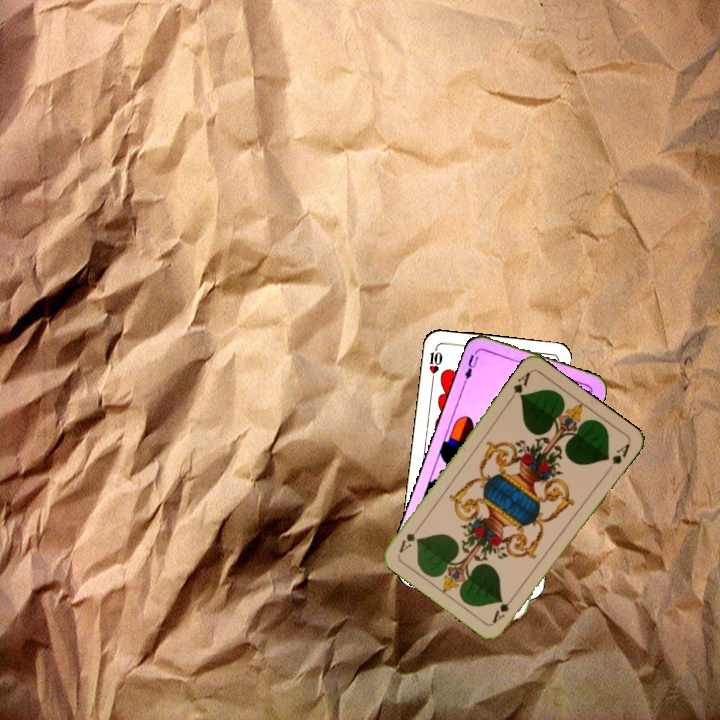EU: (461, 347, 481, 382)
GA: (488, 591, 518, 626), (505, 368, 533, 403)
H10: (425, 343, 445, 384)
